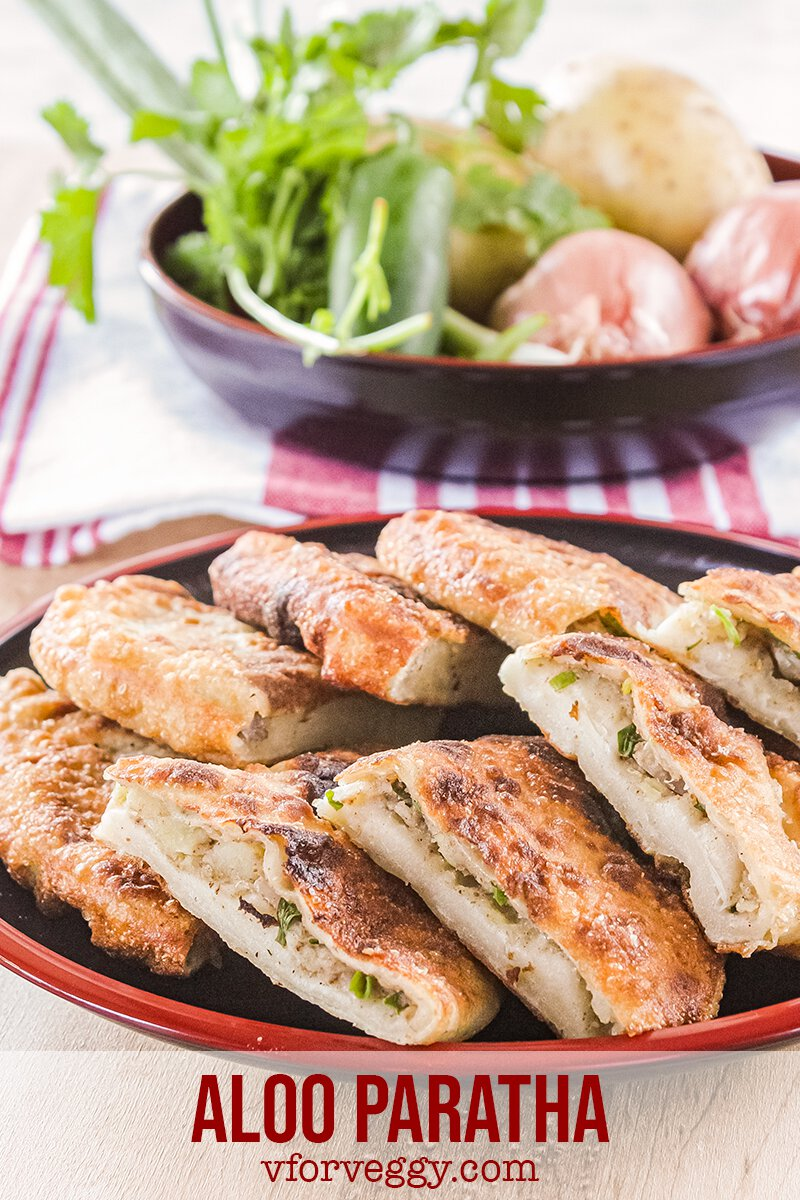aloo_paratha: (1, 513, 797, 1044)
